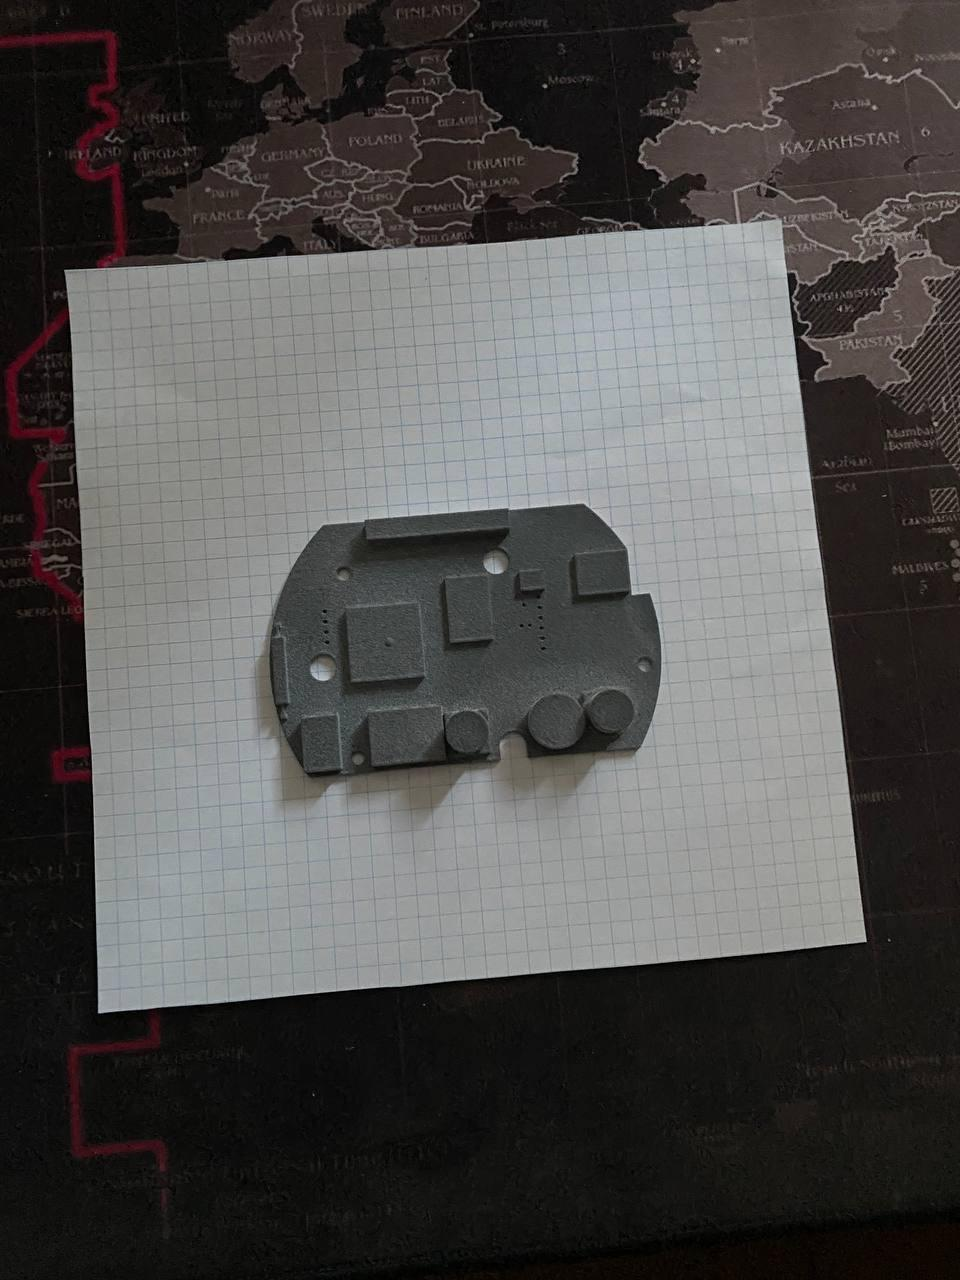grid: (52, 210, 882, 1033)
